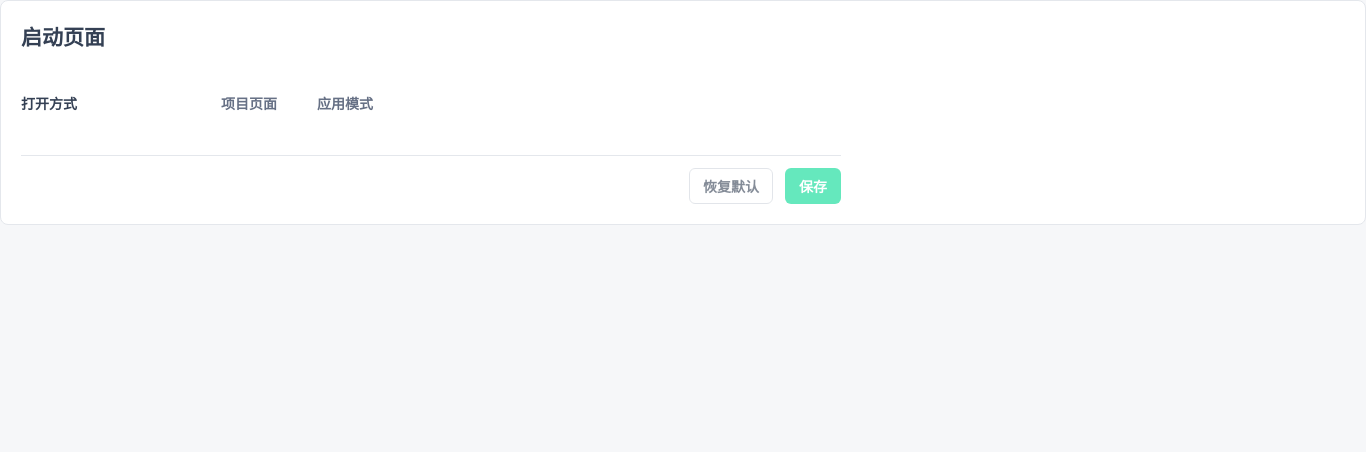
Test: SettingsStartupPagePanel › does not save a Runtime version without App Mode
Click the button "应用模式". click: (345, 103)
box: [301,83,389,123]
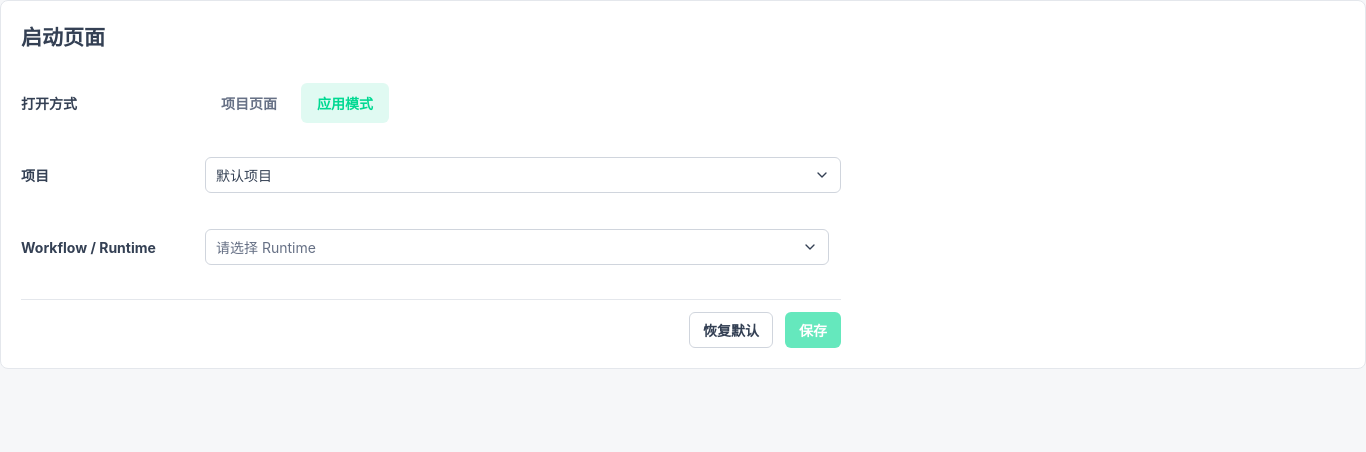
Click the button with class "ui-select__button" showing "请选择 Runtime". click: (266, 248)
box: [205,229,829,265]
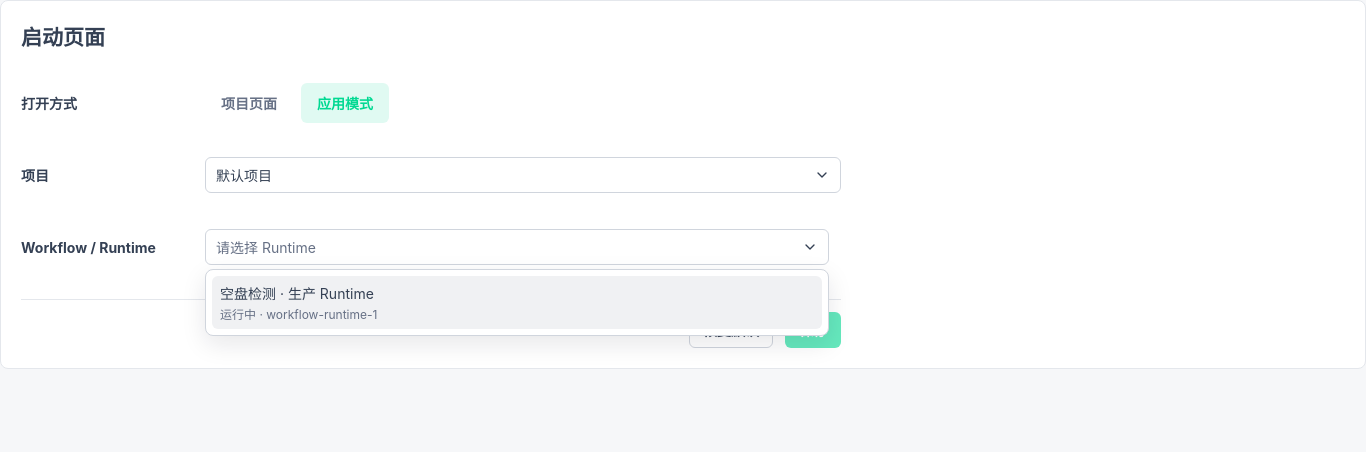
Click the option with class "ui-select__option". click: (297, 294)
box: [212,276,822,329]
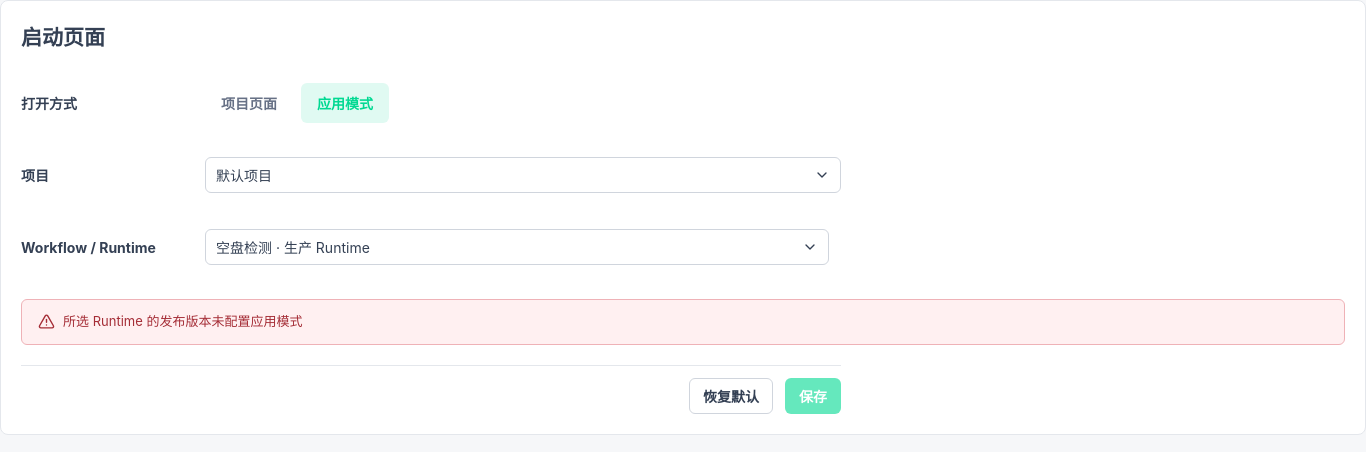
expect the button with class "ui-button--primary" is disabled: met, box [785,378,841,414]
expect the text "未配置应用模式" is shown: met, box [63,313,302,329]
